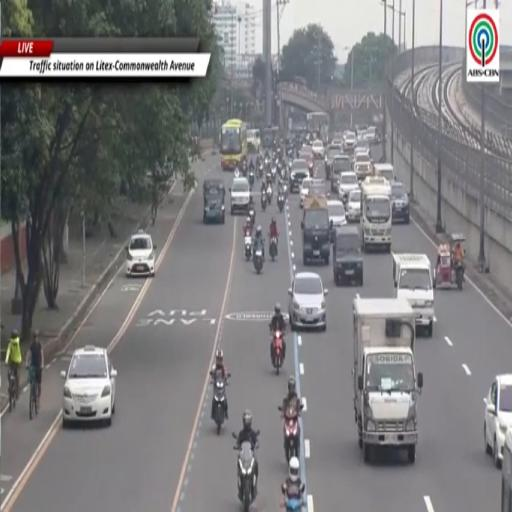bus: (221, 119, 247, 170), (501, 428, 511, 511), (307, 112, 329, 142)
car: (61, 346, 116, 427), (484, 374, 511, 467), (289, 272, 327, 330), (333, 226, 363, 286), (126, 230, 156, 277), (331, 153, 351, 193), (391, 182, 410, 223), (328, 200, 347, 241), (230, 178, 250, 215), (338, 170, 359, 204), (289, 158, 309, 193), (300, 178, 324, 207), (325, 144, 341, 179), (353, 152, 372, 181), (346, 188, 360, 222), (298, 151, 314, 177), (374, 164, 395, 183), (300, 178, 312, 207), (307, 179, 326, 197), (354, 139, 371, 156), (366, 126, 380, 145), (343, 132, 356, 152), (312, 140, 324, 158), (301, 144, 312, 152)
motorcycle: (234, 442, 256, 511), (279, 406, 300, 462), (212, 372, 230, 435), (272, 330, 284, 375), (282, 486, 303, 511), (455, 262, 464, 291), (253, 248, 263, 274), (245, 236, 252, 261), (270, 237, 277, 261), (277, 195, 285, 212), (261, 190, 267, 212), (249, 207, 255, 226), (267, 184, 272, 204), (258, 163, 264, 179), (249, 170, 254, 188), (282, 182, 288, 197), (271, 165, 276, 181), (243, 160, 247, 177), (266, 172, 272, 183)
tricycle: (433, 234, 465, 290)
truck: (352, 297, 423, 462), (393, 253, 434, 337), (360, 176, 392, 252), (301, 196, 330, 265)
